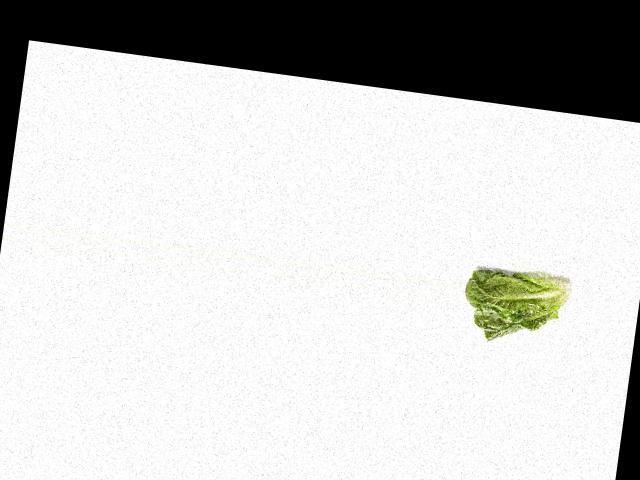lettuce: (458, 249, 579, 352)
